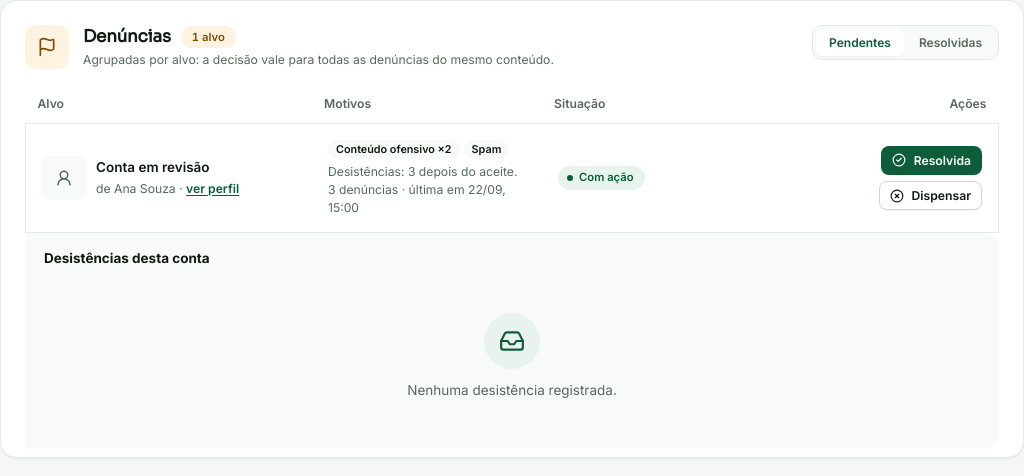
ReportsSection: a fila › na fila resolvida, o histórico privado ocupa as três colunas existentes
Check: the heading "Desistências desta conta" is shown, box [44,250,210,266]
Click the tab "Resolvidas" at (950, 42), box [906,29,995,56]
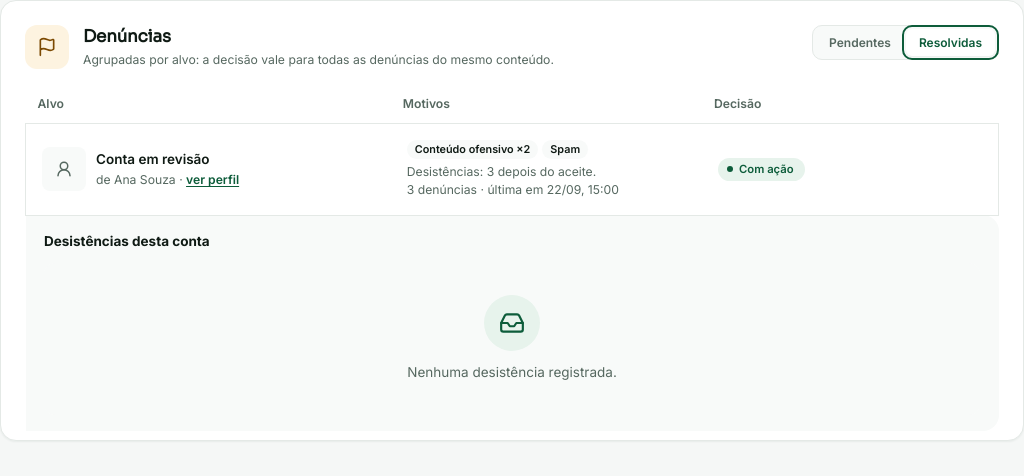
Check: the column heading "Decisão" is shown, box [702,85,998,123]
Check: the button "Dispensar" is gone
